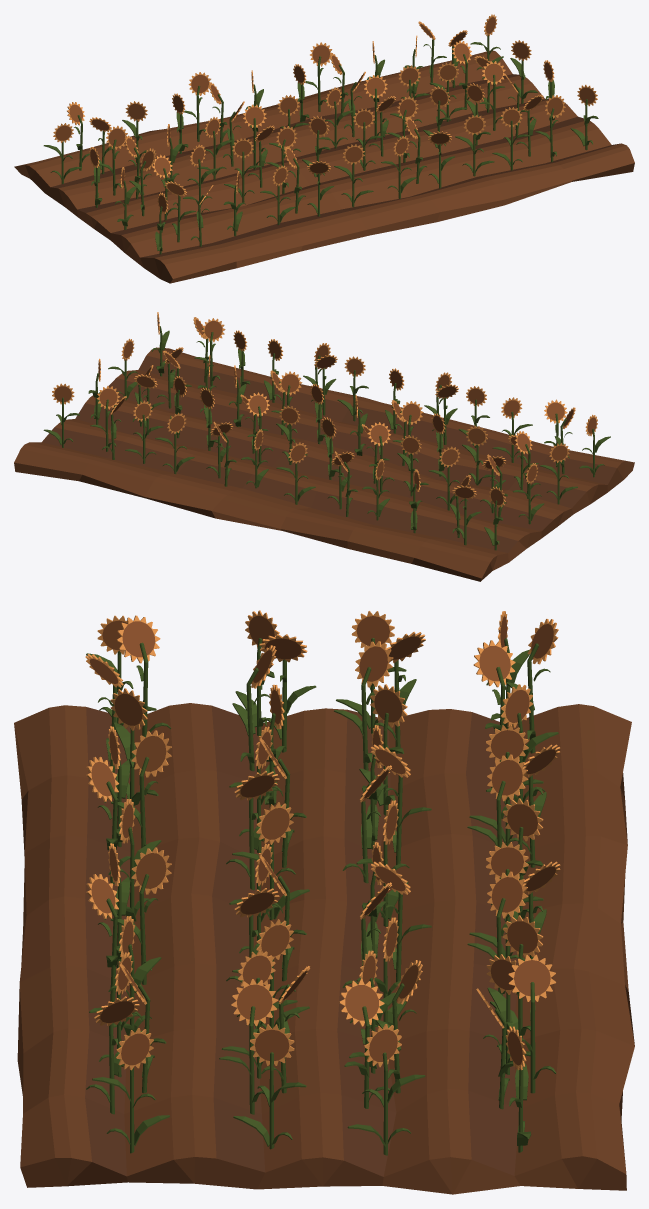
Rendered from SunFlowerHarvest_1.fbx.
3 views of the same model, one above another, from view 1: azimuth 30°, elevation 25°; view 2: azimuth 150°, elevation 25°; view 3: azimuth 270°, elevation 25° (orthographic). The views are drawn at different scales.
Visible parts, largest first — view 1: SunFlowerHarvest_1; view 2: SunFlowerHarvest_1; view 3: SunFlowerHarvest_1.
Part boxes in pixels (x1,y1,x2,y2): SunFlowerHarvest_1: (14, 14, 634, 283); SunFlowerHarvest_1: (14, 312, 634, 581); SunFlowerHarvest_1: (14, 610, 634, 1194).
Size of the model in its own units: 1010 by 160 by 581.
